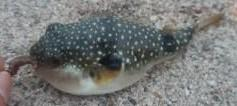fish: (30, 14, 226, 94)
